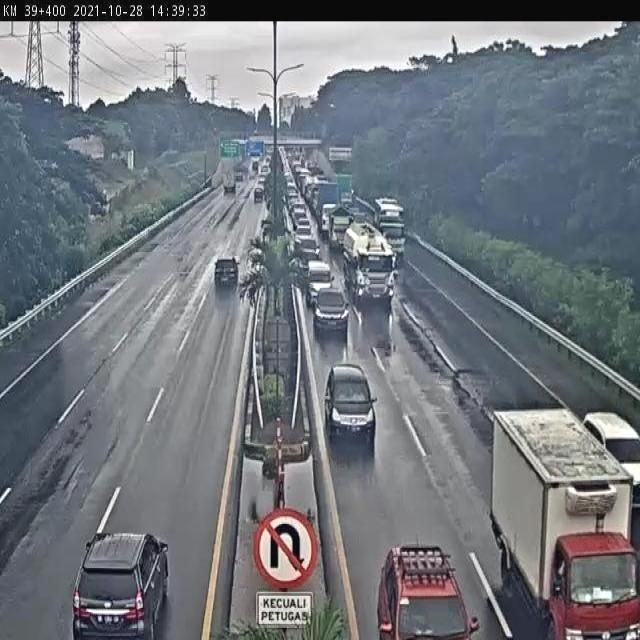Bus: (371, 193, 403, 230)
Car: (69, 530, 170, 640), (376, 542, 480, 640), (580, 407, 640, 508), (326, 364, 378, 448), (315, 284, 350, 339), (213, 254, 240, 291), (296, 252, 322, 279), (294, 235, 320, 256), (296, 218, 312, 231), (254, 187, 265, 203)
Truck: (484, 403, 638, 640), (342, 222, 398, 310), (316, 179, 338, 229), (328, 207, 353, 249), (380, 218, 408, 255), (333, 175, 353, 211), (224, 169, 238, 194)
Van: (306, 259, 338, 302)
